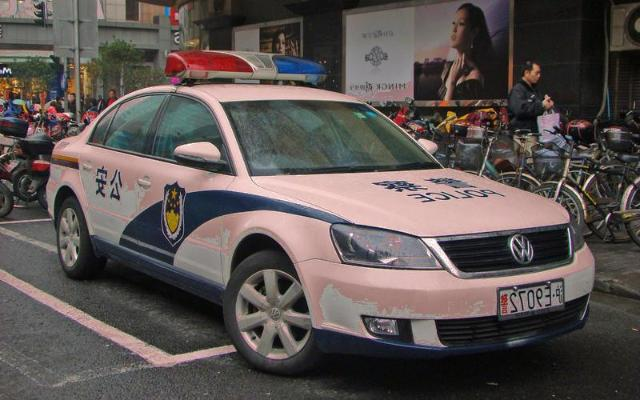police_car: (42, 43, 610, 365)
